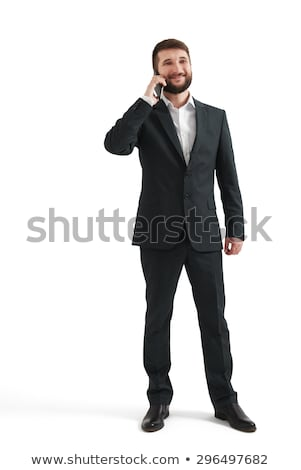phone: (139, 63, 168, 112)
talk: (144, 57, 202, 101)
